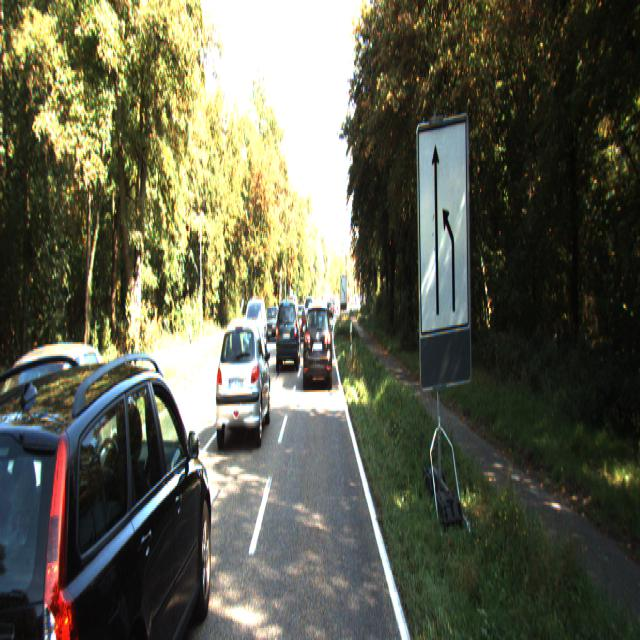Car: (0, 334, 215, 638), (0, 337, 126, 616), (214, 316, 271, 451), (302, 301, 332, 390), (276, 297, 300, 369), (241, 292, 266, 352)
